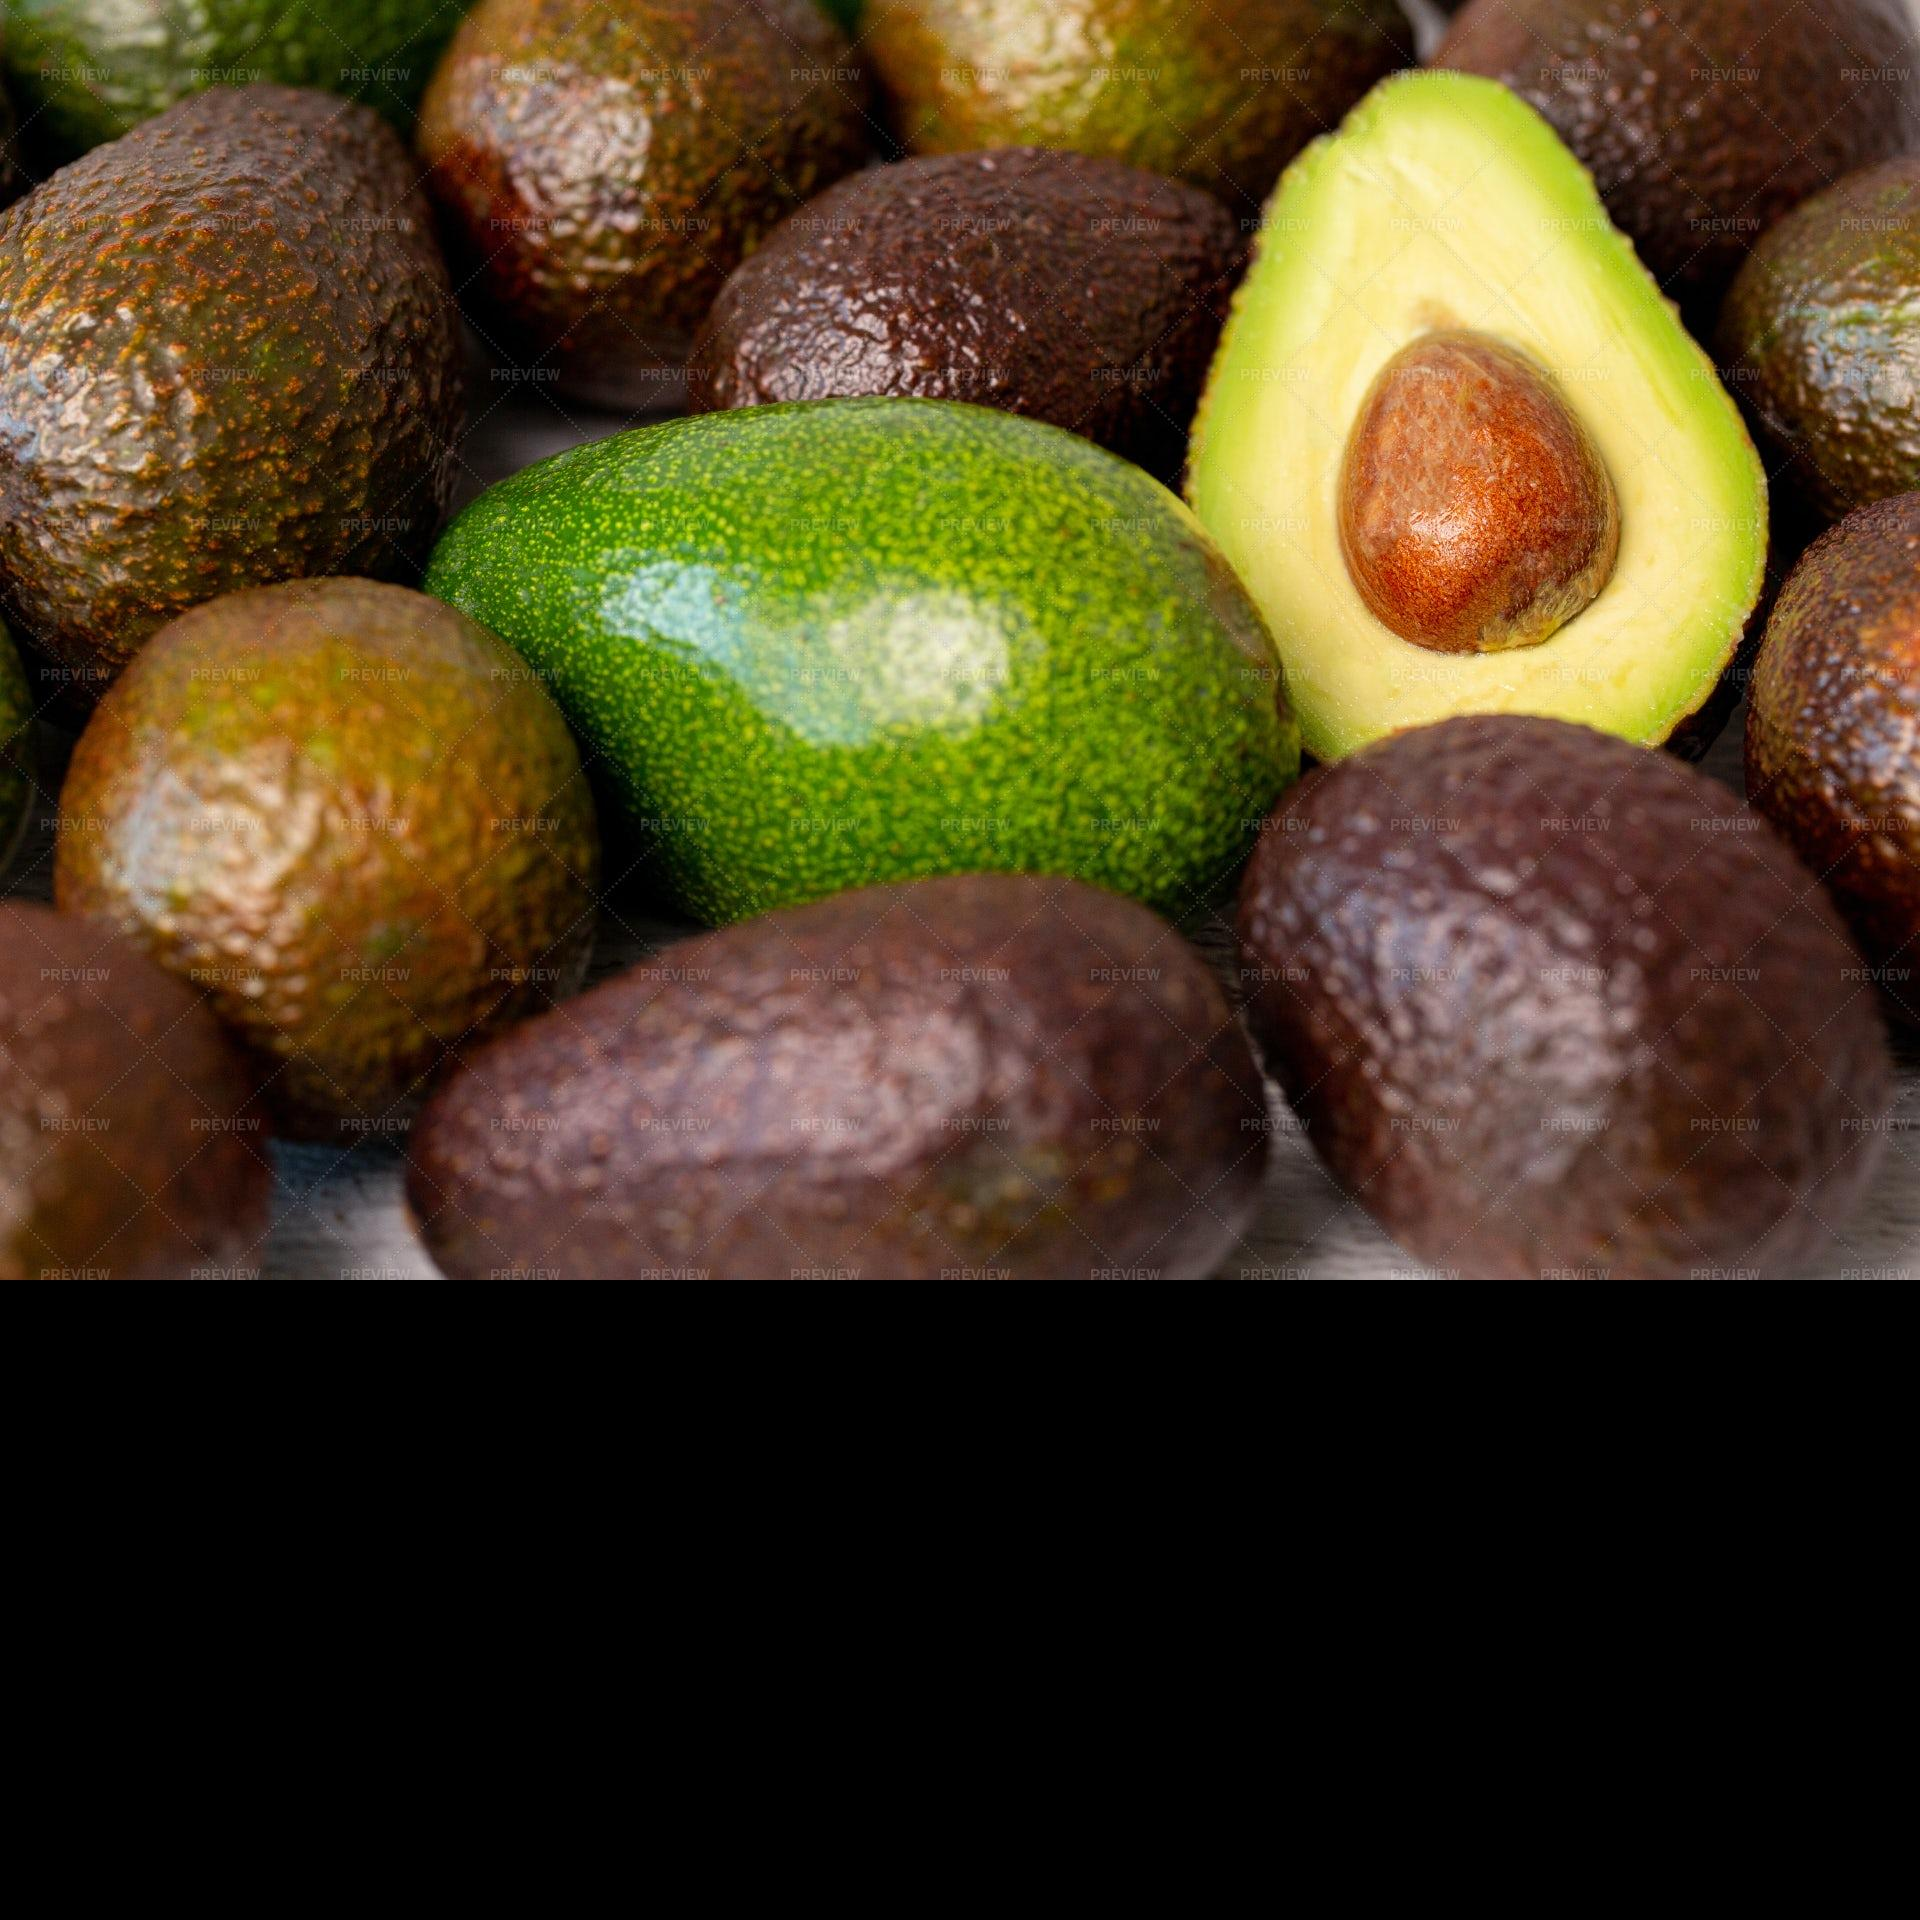almost: (53, 573, 593, 1143), (413, 2, 863, 403), (1424, 4, 1920, 332), (858, 2, 1421, 209), (1725, 155, 1920, 524)
ripe: (1241, 717, 1892, 1284), (404, 876, 1275, 1284), (2, 83, 462, 693), (684, 153, 1255, 499)
unripe: (420, 403, 1303, 928)
